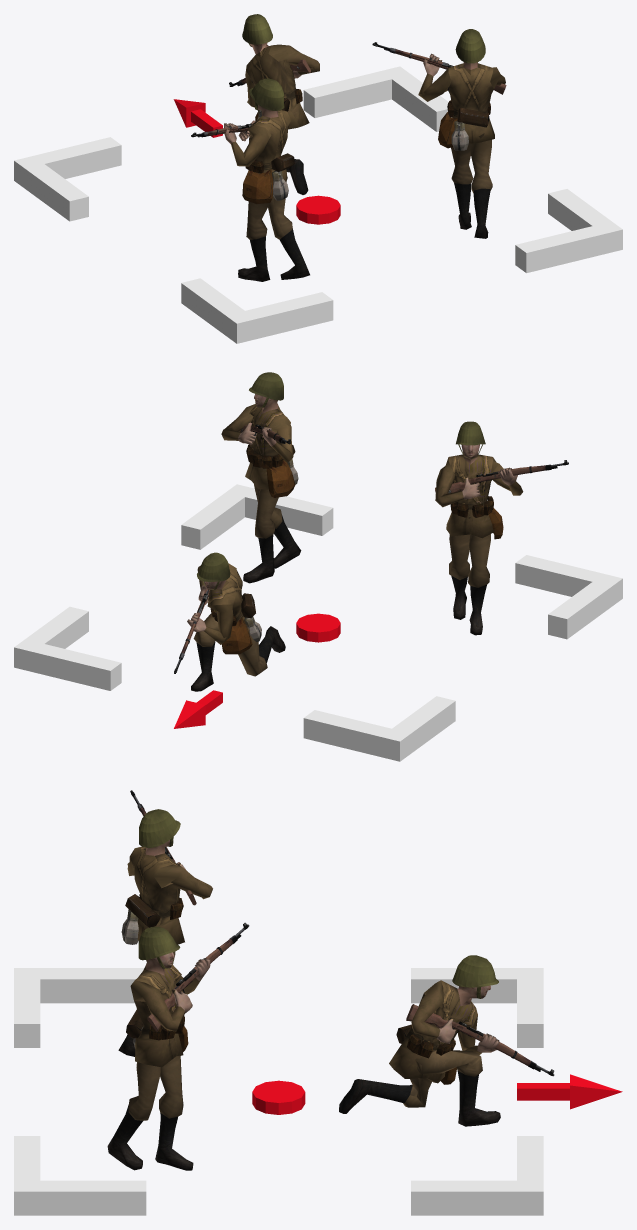
The model's file is cf_sov_r.obj.
The picture shows the model from 3 angles, top to bottom: view 1: azimuth 30°, elevation 25°; view 2: azimuth 150°, elevation 25°; view 3: azimuth 270°, elevation 25°; orthographic projection. The views are drawn at different scales.
Visible parts, largest first — view 1: i_frame_Cube.002, german_rigged, german_rigged.001, wz30.001, pointer_Cylinder, arrow_Cube; view 2: i_frame_Cube.002, german_rigged.001, german_rigged, wz30.001, pointer_Cylinder, arrow_Cube; view 3: i_frame_Cube.002, wz30.001, german_rigged, german_rigged.001, arrow_Cube, pointer_Cylinder.
Boxes of the visible parts, x1,y1,x2,y2 form: i_frame_Cube.002: (14, 66, 622, 343); german_rigged: (372, 29, 506, 238); german_rigged.001: (191, 78, 309, 281); wz30.001: (229, 14, 319, 194); pointer_Cylinder: (296, 195, 340, 224); arrow_Cube: (173, 99, 222, 137); i_frame_Cube.002: (14, 484, 622, 761); german_rigged.001: (435, 421, 568, 635); german_rigged: (221, 372, 301, 583); wz30.001: (174, 552, 285, 691); pointer_Cylinder: (296, 613, 340, 642); arrow_Cube: (174, 690, 222, 728); i_frame_Cube.002: (14, 968, 543, 1215); wz30.001: (339, 955, 554, 1126); german_rigged: (107, 922, 249, 1170); german_rigged.001: (118, 790, 212, 1056); arrow_Cube: (517, 1074, 622, 1109); pointer_Cylinder: (252, 1080, 305, 1114).
Bounding box in the file's own units: 4 × 1.99 × 4.6.
2 materials, 2 textured.
